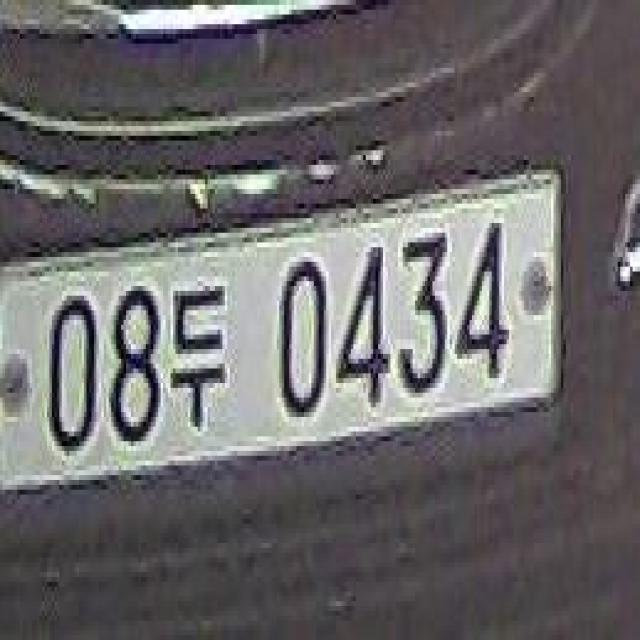illegal_plate: (7, 172, 576, 499)
